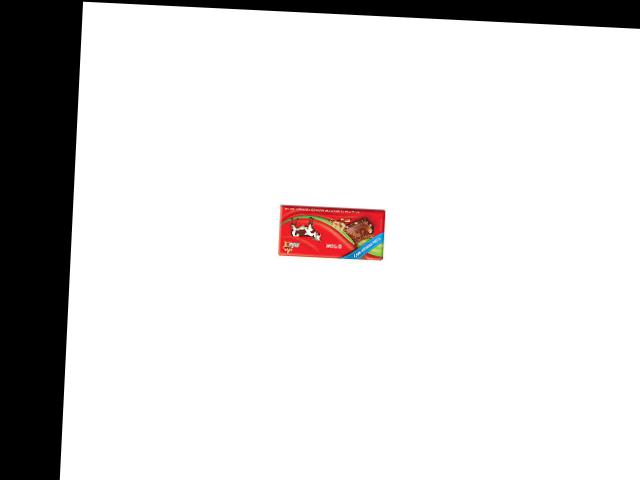chocolate: (273, 205, 384, 261)
